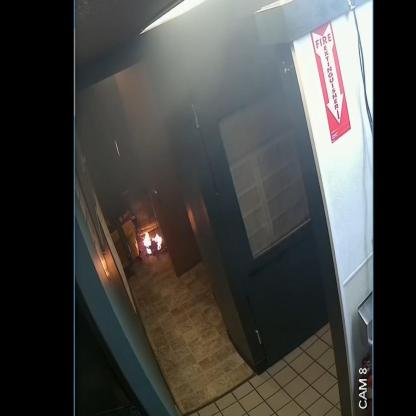fire: (143, 231, 162, 254)
